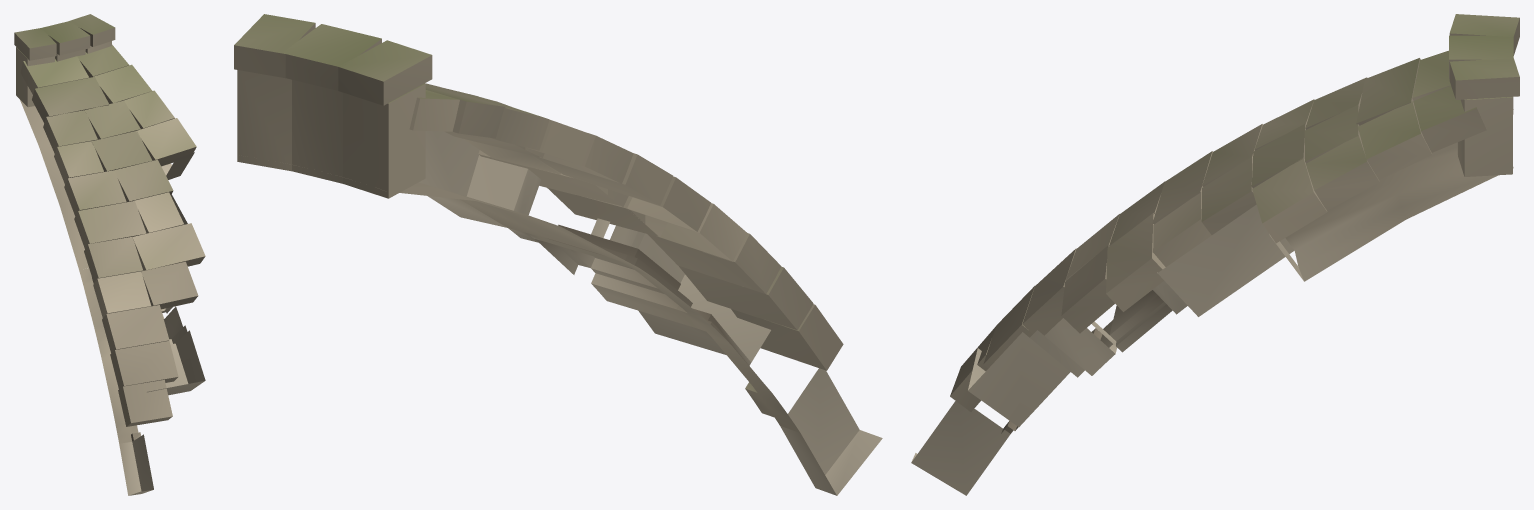
The model's file is dome_shell_bm1_mid.glb.
3 views of the same model, side by side, from view 1: azimuth 30°, elevation 25°; view 2: azimuth 150°, elevation 25°; view 3: azimuth 270°, elevation 25° (orthographic). The views are drawn at different scales.
Visible parts, largest first — view 1: dome_shell_bm1_mid; view 2: dome_shell_bm1_mid; view 3: dome_shell_bm1_mid.
Boxes of the visible parts, x1=… form: dome_shell_bm1_mid: x1=14, y1=14, x2=205, y2=495; dome_shell_bm1_mid: x1=234, y1=14, x2=882, y2=495; dome_shell_bm1_mid: x1=911, y1=14, x2=1519, y2=495.
Bounding box in the file's own units: 13.76 × 25.45 × 27.31.
